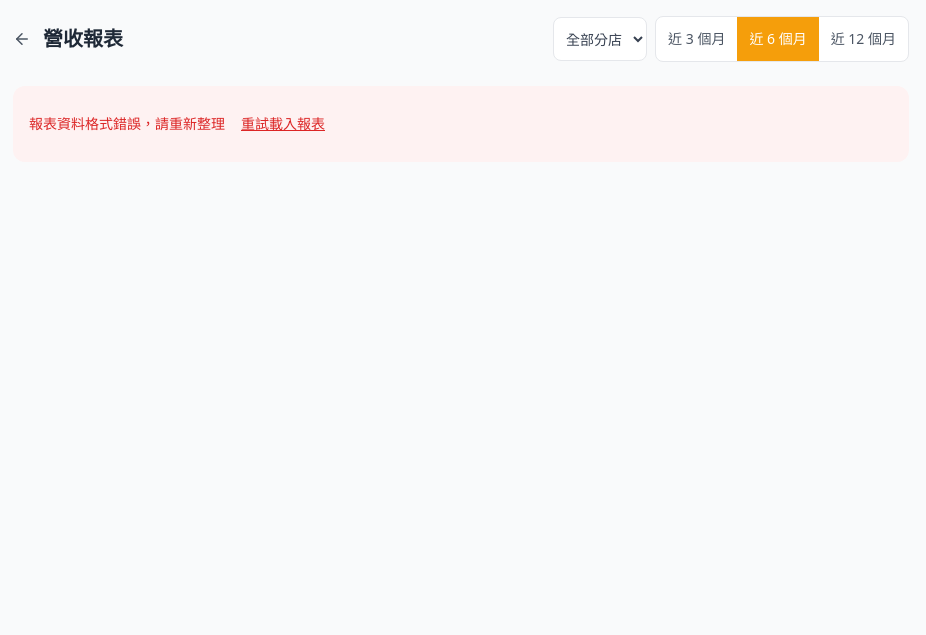
Scenario: report response errors › rejects malformed report data and retries without exporting invalid data
This screenshot has width=926, height=635.
Expected: the message shows "報表資料格式錯誤", [29,114,225,133]
Expected: the button "匯出" is not shown
Step 1. Click the button "重試載入報表" → coordinates (283, 124), box [233,102,333,146]
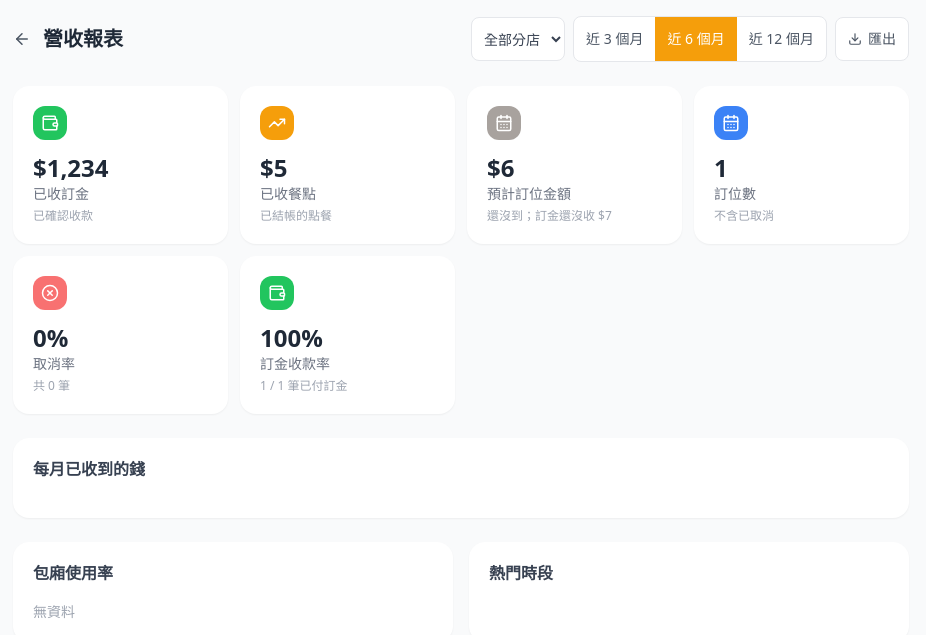
Expected: the text "$1,234" is shown, [33,151,108,184]
Expected: the button "匯出" is shown, [835,17,909,61]
Expected: the message "報表資料格式錯誤，請重新整理 重試載入報表" is gone
